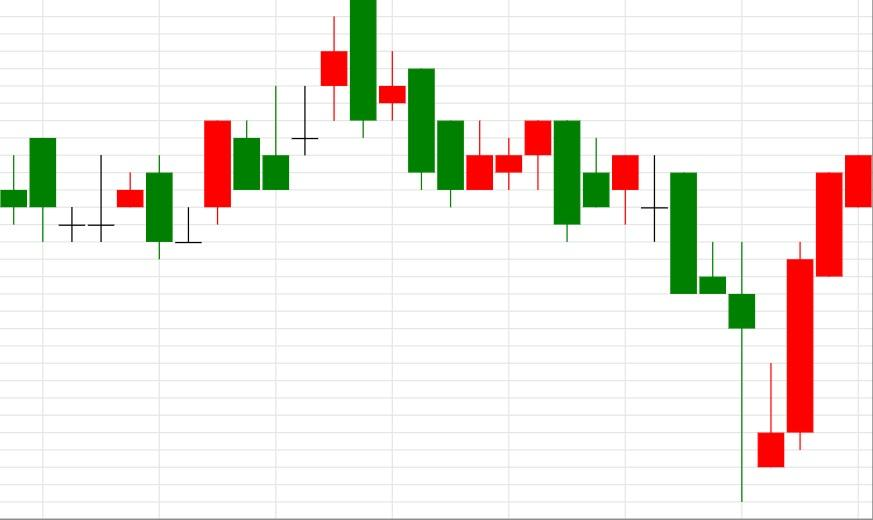bearish_engulfing_fall: (145, 0, 377, 258), (436, 120, 581, 241)
inverse_hammer_rise: (523, 119, 786, 503)
